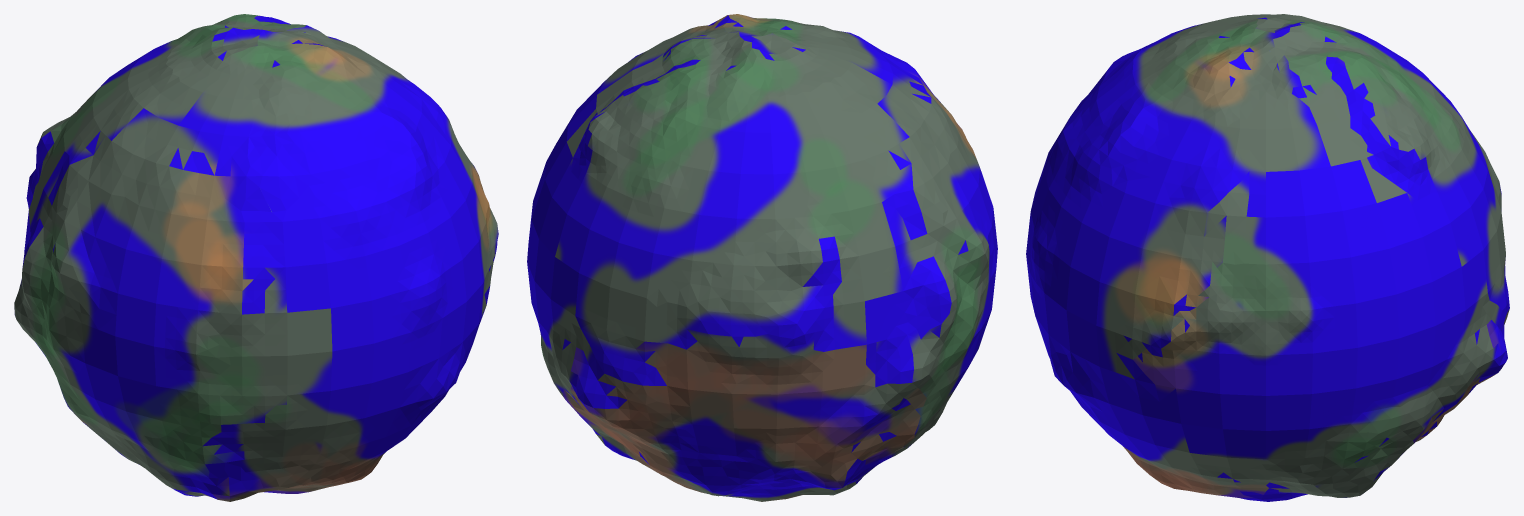
File: planet.glb
3 views of the same model, side by side, from view 1: azimuth 30°, elevation 25°; view 2: azimuth 150°, elevation 25°; view 3: azimuth 270°, elevation 25° (orthographic). The views are drawn at different scales.
Parts seen in each view (by area): view 1: Sphere; view 2: Sphere; view 3: Sphere.
Boxes of the visible parts, <box> form: Sphere: <box>14,14,498,501</box>; Sphere: <box>527,14,997,501</box>; Sphere: <box>1026,14,1509,501</box>.
Bounding box in the file's own units: 20.59 × 20.5 × 20.27.
1 material, 1 textured.
